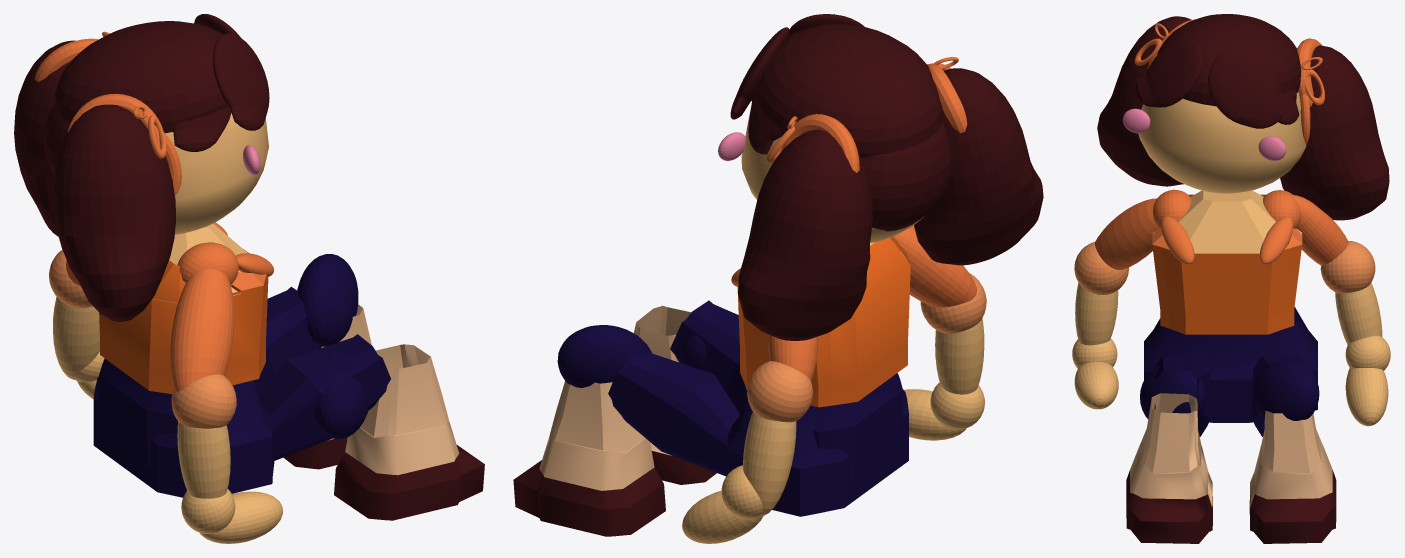
The model's file is sitting knees up.fbx.
3 views of the same model, side by side, from view 1: azimuth 30°, elevation 25°; view 2: azimuth 150°, elevation 25°; view 3: azimuth 270°, elevation 25° (orthographic). The views are drawn at different scales.
Parts seen in each view (by area): view 1: Sphere.153, Sphere.154, Cube.033, Cube.035, Cube.024, Cube.030, trousers.007, Sphere.135, Sphere.145, Sphere.134, trousers.008, Sphere.156 (+15 smaller); view 2: Sphere.156, Sphere.154, Sphere.153, Cube.033, Cube.024, Cube.035, Cube.030, trousers.007, Sphere.149, trousers.008, Sphere.135, Sphere.138 (+15 smaller); view 3: Cube.035, Sphere.156, Cube.024, Sphere.145, trousers.007, Cube.030, Sphere.154, Sphere.135, Sphere.153, Cube.027, Sphere.152, Sphere.155 (+18 smaller).
Part boxes in pixels (x1=…): Sphere.153: x1=53, y1=104, x2=175, y2=321; Sphere.154: x1=55, y1=21, x2=228, y2=133; Cube.033: x1=257, y1=286, x2=390, y2=460; Cube.035: x1=321, y1=304, x2=459, y2=475; Cube.024: x1=99, y1=250, x2=268, y2=393; Cube.030: x1=283, y1=437, x2=484, y2=520; trousers.007: x1=93, y1=376, x2=274, y2=497; Sphere.135: x1=297, y1=254, x2=368, y2=438; Sphere.145: x1=165, y1=113, x2=268, y2=234; Sphere.134: x1=170, y1=269, x2=234, y2=391; trousers.008: x1=99, y1=358, x2=177, y2=466; Sphere.156: x1=14, y1=40, x2=75, y2=236; Sphere.156: x1=738, y1=129, x2=872, y2=340; Sphere.154: x1=755, y1=24, x2=942, y2=157; Sphere.153: x1=914, y1=68, x2=1043, y2=265; Cube.033: x1=608, y1=300, x2=745, y2=476; Cube.024: x1=737, y1=236, x2=910, y2=407; Cube.035: x1=539, y1=305, x2=690, y2=490; Cube.030: x1=513, y1=451, x2=716, y2=536; trousers.007: x1=727, y1=387, x2=908, y2=516; Sphere.149: x1=862, y1=122, x2=951, y2=231; trousers.008: x1=813, y1=373, x2=902, y2=481; Sphere.135: x1=557, y1=319, x2=738, y2=387; Sphere.138: x1=743, y1=411, x2=796, y2=516; Cube.035: x1=1130, y1=393, x2=1332, y2=507; Sphere.156: x1=1280, y1=45, x2=1389, y2=220; Cube.024: x1=1152, y1=194, x2=1302, y2=334; Sphere.145: x1=1138, y1=92, x2=1306, y2=193; trousers.007: x1=1144, y1=307, x2=1317, y2=422; Cube.030: x1=1126, y1=470, x2=1336, y2=543; Sphere.154: x1=1157, y1=14, x2=1301, y2=106; Sphere.135: x1=1140, y1=360, x2=1319, y2=420; Sphere.153: x1=1097, y1=16, x2=1191, y2=186; Cube.027: x1=1152, y1=190, x2=1301, y2=253; Sphere.152: x1=1208, y1=49, x2=1286, y2=128; Sphere.155: x1=1135, y1=39, x2=1203, y2=107.
Size of the model in its own units: 450 by 511 by 360.
